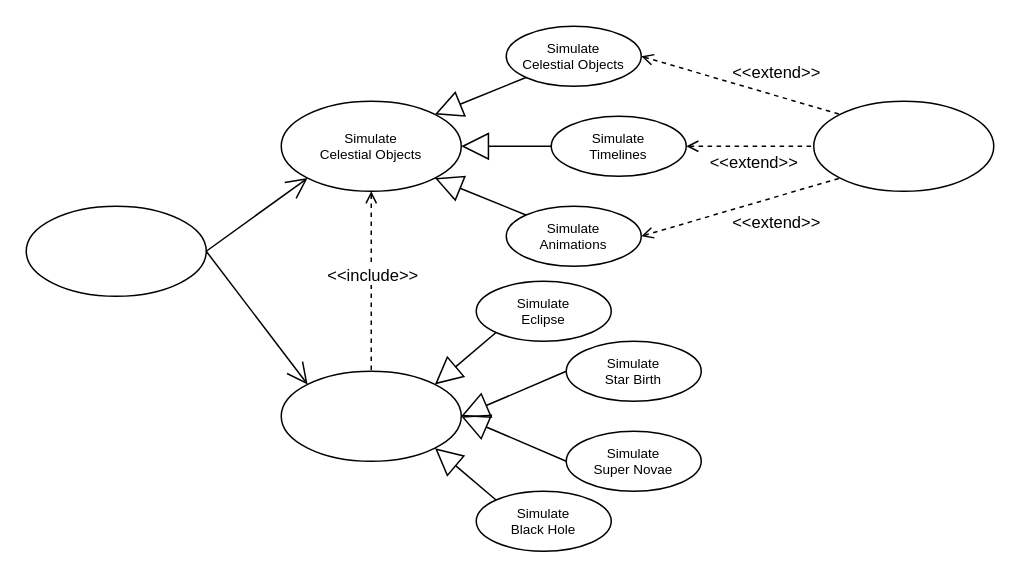
Image size: 1020x578. Some labels were removed from this diagram. Each missing label, with the box of its shape:
Graphical Planetarium: (812, 100, 994, 191)
Include Module : Simulation: (25, 205, 206, 296)
Simulate Celestial Events: (280, 370, 461, 461)
